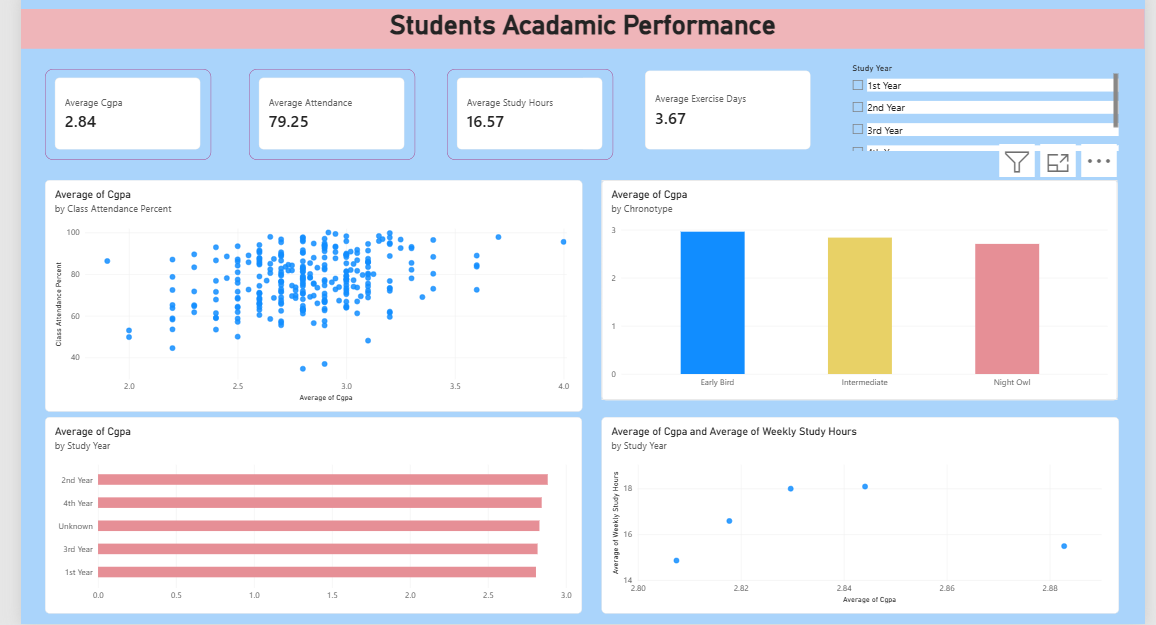

This screenshot's page, from the dashboard's own definition file:
{"tool":"powerbi","page":{"name":"Acadamic performance","canvas":[1920,1080],"ordinal":2},"visuals":[{"type":"cardVisual","fields":{"Data":["Student Table.Average Cgpa"]},"box":[40.6,128.8,283.9,155.1],"z":0},{"type":"cardVisual","fields":{"Data":["Student Table.Average Attendance"]},"box":[388.9,128.8,283.9,155.1],"z":1000},{"type":"cardVisual","fields":{"Data":["Student Table.Average Study Hours"]},"box":[727.7,128.8,283.9,155.1],"z":2000},{"type":"cardVisual","fields":{"Data":["Student Table.Average Exercise Days"]},"box":[1066.5,131.2,283.9,136],"z":3000},{"type":"scatterChart","fields":{"X":["Avg(Student Table.Cgpa)"],"Y":["Student Table.Class Attendance Percent"]},"box":[40.6,317.3,918.6,396.1],"z":4000},{"type":"clusteredColumnChart","fields":{"Category":["Student Table.Chronotype"],"Y":["Avg(Student Table.Cgpa)"]},"box":[992.5,317.3,882.8,377],"z":5000},{"type":"barChart","fields":{"Category":["Student Table.Study Year"],"Y":["Avg(Student Table.Cgpa)"]},"box":[41,723.1,917.9,335.9],"z":6000},{"type":"scatterChart","fields":{"Category":["Student Table.Study Year"],"X":["Avg(Student Table.Cgpa)"],"Y":["Avg(Student Table.Weekly Study Hours)"]},"box":[992.3,723.1,884.6,335.9],"z":7000},{"type":"slicer","fields":{"Values":["Student Table.Study Year"]},"box":[1412.5,116.9,462.9,150.3],"z":8000},{"type":"textbox","title":"Students Acadamic Performance","box":[0,26.2,1920.7,90.7],"z":9000}]}

Visuals, with their boxes on the page's 1920x1080 design canvas (x1, y1, x2, y2). These are canvas units, not pixel positions in the 1156x625 screenshot, which may show the page scaled, cropped or inside an application window:
cardVisual - Student Table.Average Cgpa: 41/129/324/284
cardVisual - Student Table.Average Attendance: 389/129/673/284
cardVisual - Student Table.Average Study Hours: 728/129/1012/284
cardVisual - Student Table.Average Exercise Days: 1066/131/1350/267
scatterChart - Avg(Student Table.Cgpa) x Student Table.Class Attendance Percent: 41/317/959/713
clusteredColumnChart - Student Table.Chronotype x Avg(Student Table.Cgpa): 992/317/1875/694
barChart - Student Table.Study Year x Avg(Student Table.Cgpa): 41/723/959/1059
scatterChart - Student Table.Study Year x Avg(Student Table.Cgpa): 992/723/1877/1059
slicer - Student Table.Study Year: 1412/117/1875/267
"Students Acadamic Performance" textbox: 0/26/1921/117
